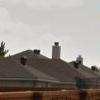Chimney: (44, 36, 64, 62)
